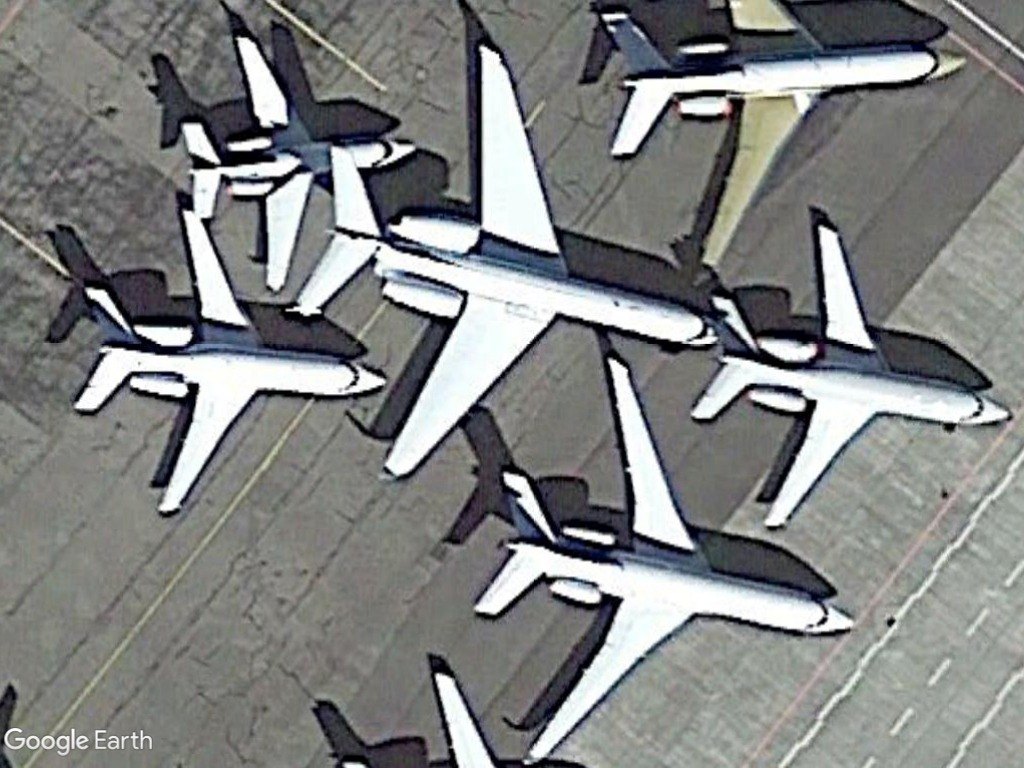chartered: (277, 35, 721, 484), (463, 348, 860, 768), (688, 216, 1014, 552), (66, 203, 389, 524), (174, 32, 419, 301)
